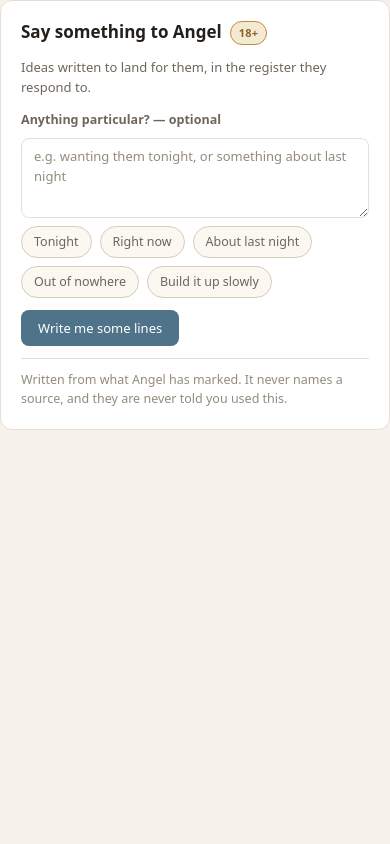
it: SayLines (75) › $ is admin-only by construction — a member sees no cost at all
This screenshot has width=390, height=844.
Click the button "Write me some lines" at coordinates (100, 328), box [21, 310, 179, 346]
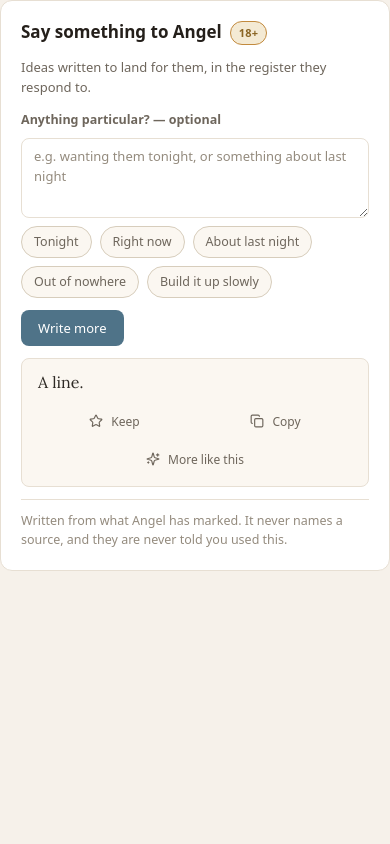
Expected: the text "A line." is shown, [38, 372, 83, 392]
